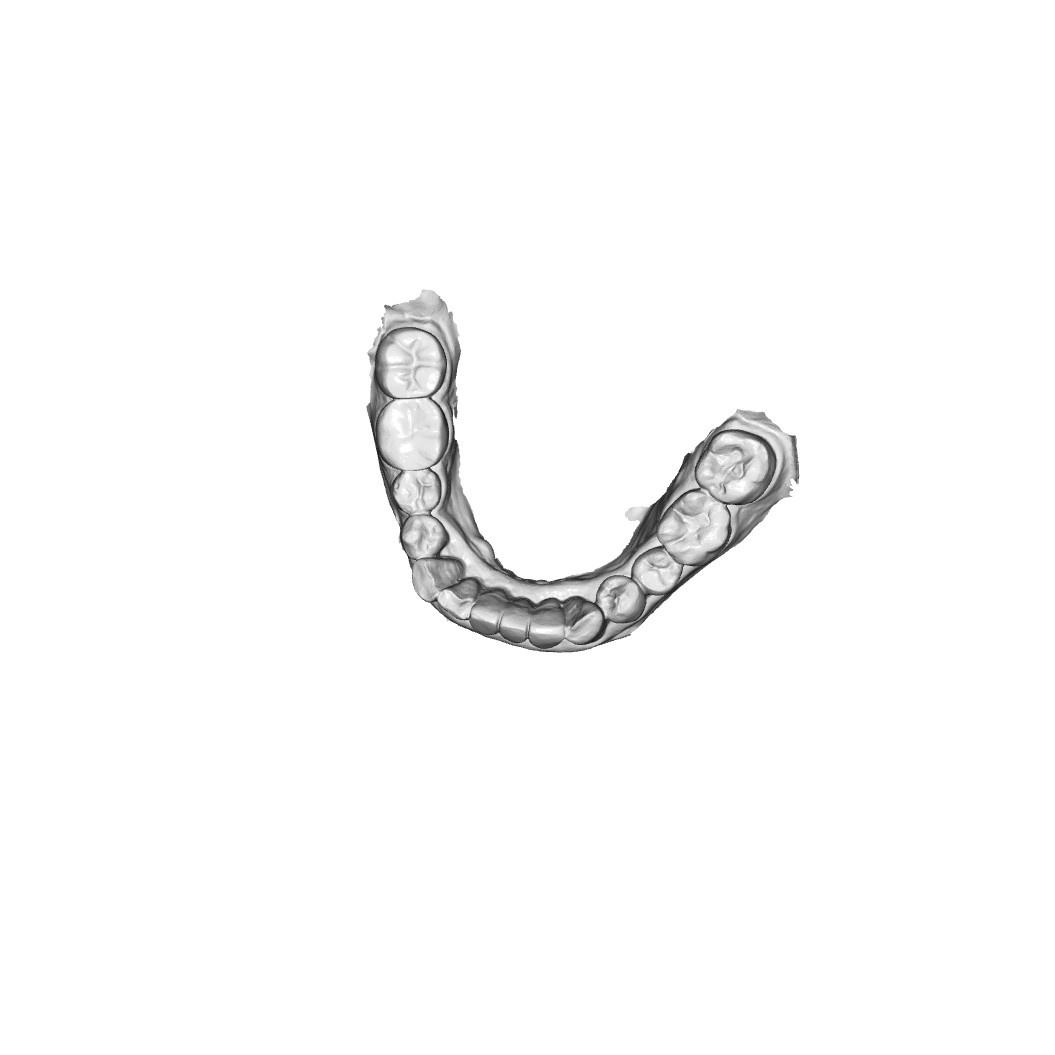canine: (409, 554, 467, 601), (563, 597, 601, 644)
incisor: (526, 592, 565, 648), (495, 603, 534, 648), (436, 579, 476, 622), (469, 595, 505, 637)
molar: (663, 490, 734, 563), (700, 431, 773, 501), (380, 394, 446, 469), (375, 324, 443, 396)
premolar: (394, 468, 442, 514), (597, 575, 646, 620), (400, 516, 448, 560), (636, 550, 684, 593)
